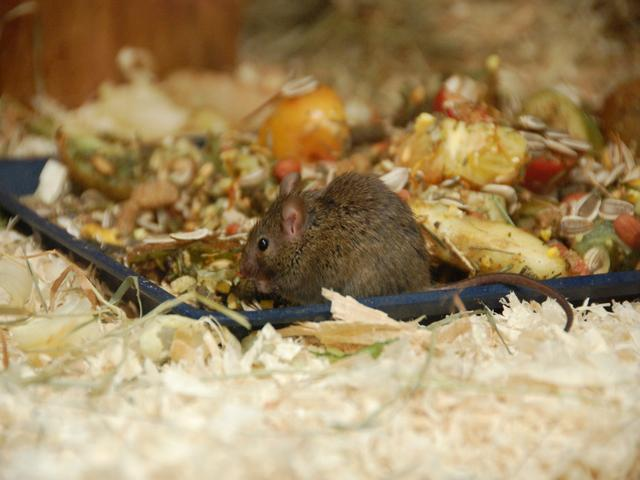mouse: (225, 140, 608, 344)
